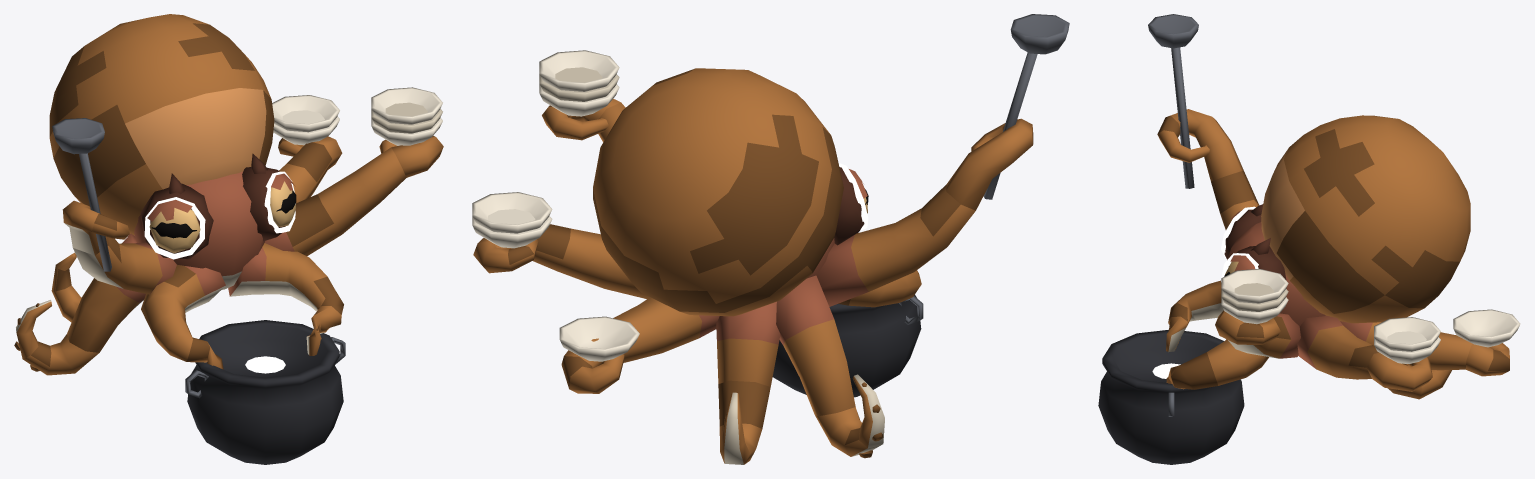
File: octopus-last-served.glb
The picture shows the model from 3 angles, left to right: view 1: azimuth 30°, elevation 25°; view 2: azimuth 150°, elevation 25°; view 3: azimuth 270°, elevation 25°; orthographic projection. The views are drawn at different scales.
Visible parts, largest first — view 1: body, pulse_mantle, wave_arm3_0, wave_arm5_0, wave_arm2_1, wave_arm4_0, blink_eye_r, wave_arm2_0, wave_arm6_0, wave_arm4_1, blink_eye_l; view 2: pulse_mantle, body, wave_arm3_0, wave_arm5_0, wave_arm7_0, wave_arm6_0, wave_arm2_0, wave_arm2_1, wave_arm4_0, wave_arm4_1; view 3: pulse_mantle, body, wave_arm3_0, wave_arm5_0, wave_arm2_1, wave_arm7_0, wave_arm2_0, wave_arm6_0.
Part boxes in pixels (x1,y1,x2,y2): body: (67, 142, 406, 464); pulse_mantle: (49, 14, 274, 234); wave_arm3_0: (371, 87, 443, 177); wave_arm5_0: (272, 95, 342, 169); wave_arm2_1: (52, 118, 129, 271); wave_arm4_0: (23, 334, 98, 375); blink_eye_r: (149, 208, 200, 253); wave_arm2_0: (62, 200, 108, 255); wave_arm6_0: (51, 252, 143, 322); wave_arm4_1: (14, 300, 51, 358); blink_eye_l: (270, 181, 296, 226); pulse_mantle: (593, 68, 843, 316); body: (532, 102, 975, 416); wave_arm3_0: (539, 50, 620, 140); wave_arm5_0: (472, 192, 552, 273); wave_arm7_0: (559, 316, 639, 393); wave_arm6_0: (718, 380, 770, 464); wave_arm2_0: (946, 119, 1033, 210); wave_arm2_1: (971, 14, 1069, 199); wave_arm4_0: (815, 407, 882, 458); wave_arm4_1: (852, 374, 884, 447); pulse_mantle: (1261, 115, 1470, 323); body: (1098, 171, 1472, 464); wave_arm3_0: (1215, 269, 1288, 344); wave_arm5_0: (1366, 317, 1440, 391); wave_arm2_1: (1148, 14, 1209, 188); wave_arm7_0: (1453, 309, 1520, 376); wave_arm2_0: (1171, 109, 1243, 181); wave_arm6_0: (1388, 370, 1451, 399).
Size of the model in its own units: 0.8494 by 0.6992 by 0.7802.
